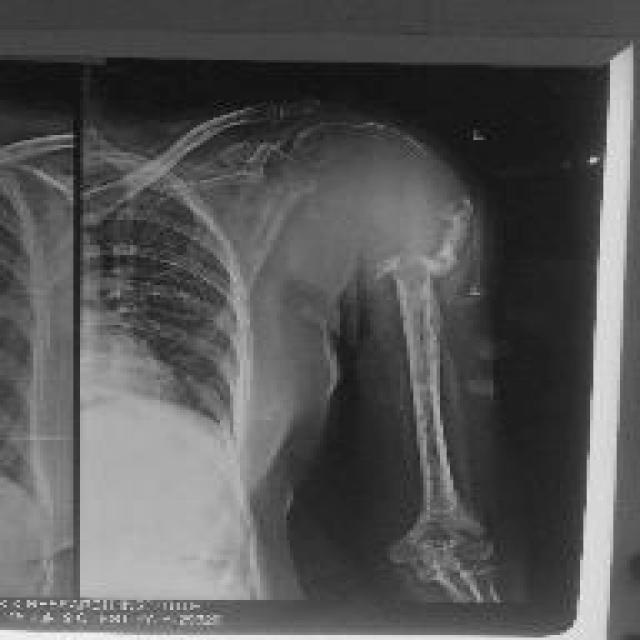bone-cancer: (265, 121, 475, 279)
